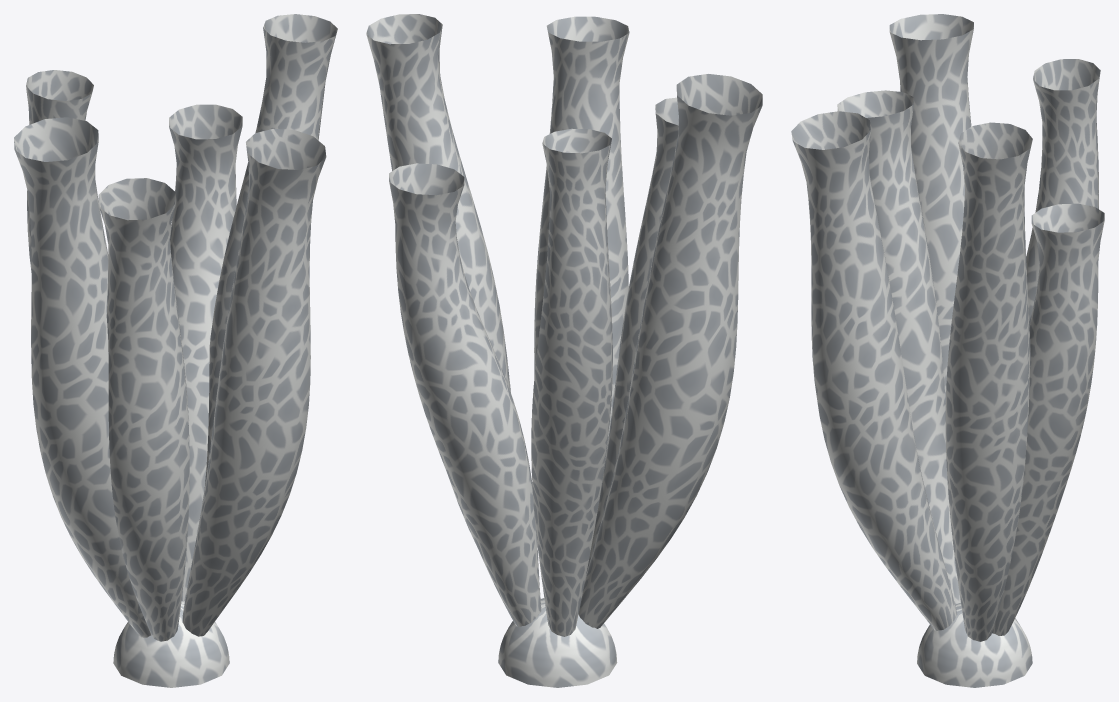
File: SM_GlassSponge_C.fbx
The picture shows the model from 3 angles, left to right: view 1: azimuth 30°, elevation 25°; view 2: azimuth 150°, elevation 25°; view 3: azimuth 270°, elevation 25°; orthographic projection. The views are drawn at different scales.
Visible parts, largest first — view 1: MSH_GlassSponge_C_LOD0; view 2: MSH_GlassSponge_C_LOD0; view 3: MSH_GlassSponge_C_LOD0.
Part boxes in pixels (<box>): MSH_GlassSponge_C_LOD0: <box>14,14,337,687</box>; MSH_GlassSponge_C_LOD0: <box>366,14,762,687</box>; MSH_GlassSponge_C_LOD0: <box>791,14,1104,687</box>.
Size of what is drawn, in the model's own units: 0.4112 by 0.6787 by 0.3251.
